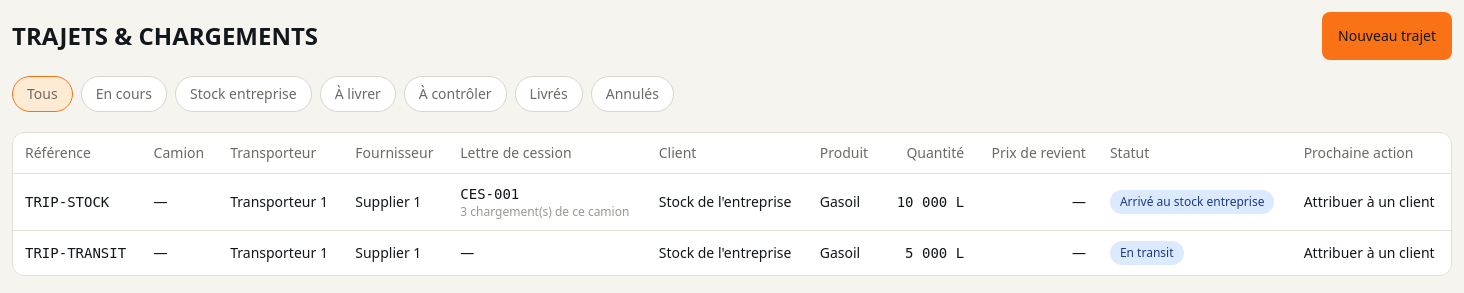
Scenario: TripStatusBoard › shows only cancelled trips under the Annulés filter
Click the button "Annulés": (632, 94) top-left (591, 76), bottom-right (674, 112)
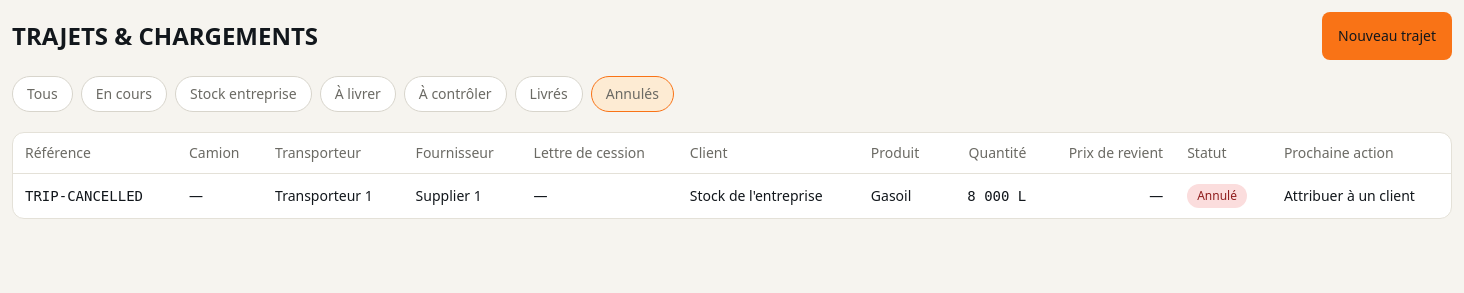
Now the text "TRIP-CANCELLED" is shown, box top-left (25, 186), bottom-right (143, 206)
Now the text "TRIP-STOCK" is gone
Now the text "TRIP-TRANSIT" is gone
